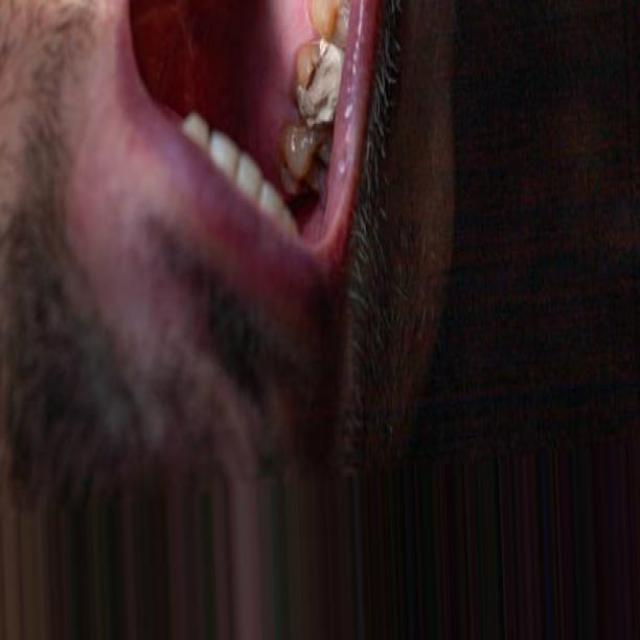caries: (294, 35, 345, 127)
